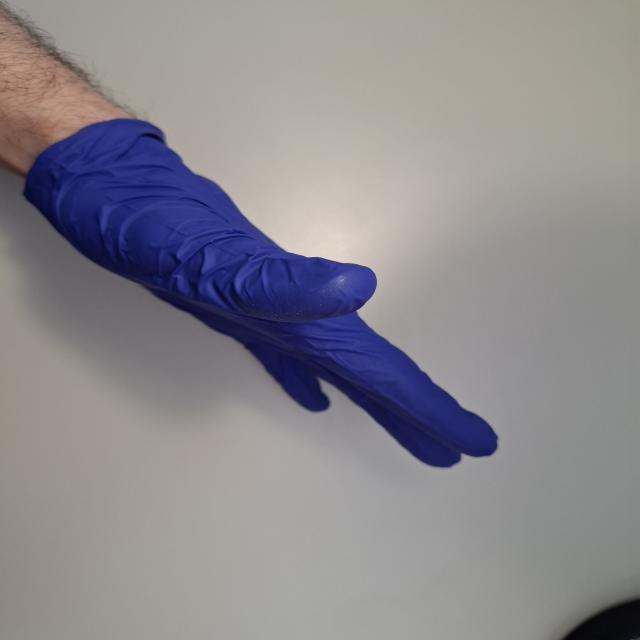glove_on: (20, 114, 511, 473)
